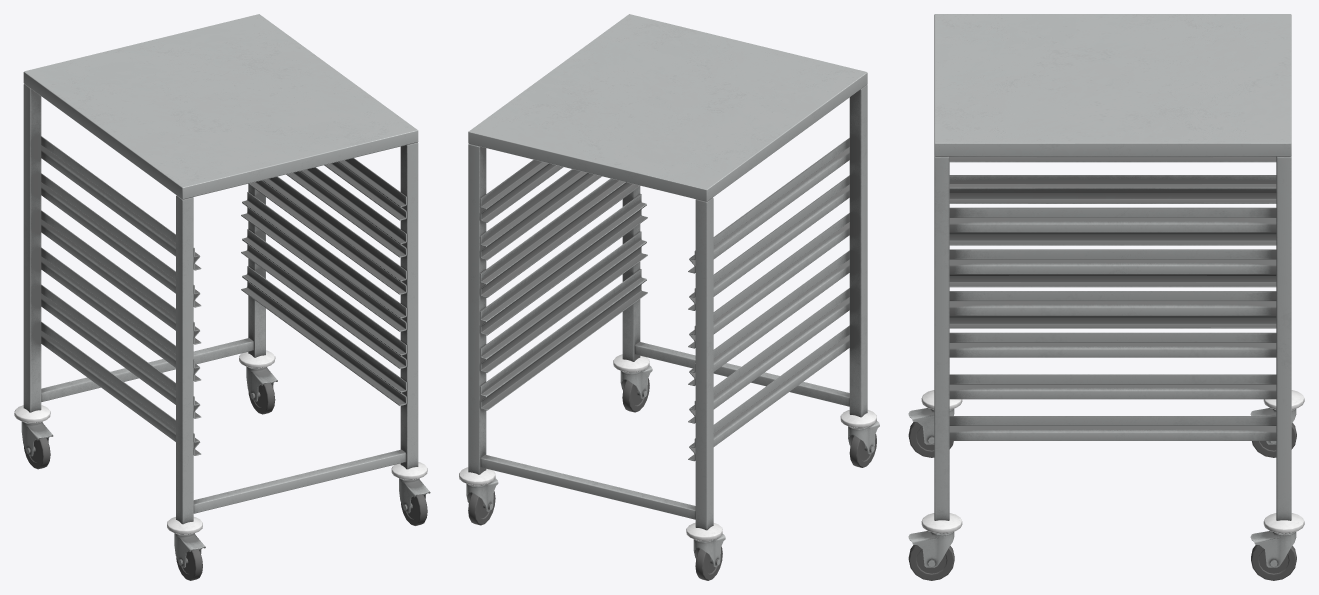
The model's file is KitchenTrolley.FBX.
The picture shows the model from 3 angles, left to right: view 1: azimuth 30°, elevation 25°; view 2: azimuth 150°, elevation 25°; view 3: azimuth 270°, elevation 25°; orthographic projection. The views are drawn at different scales.
Visible parts, largest first — view 1: KitchenTrolley; view 2: KitchenTrolley; view 3: KitchenTrolley.
Part boxes in pixels (x1,y1,x2,y2): KitchenTrolley: (14, 14, 430, 580); KitchenTrolley: (459, 14, 879, 580); KitchenTrolley: (908, 14, 1304, 580).
Bounding box in the file's own units: 65 × 94.98 × 77.56.
Materials: 1 (1 with a texture image).
